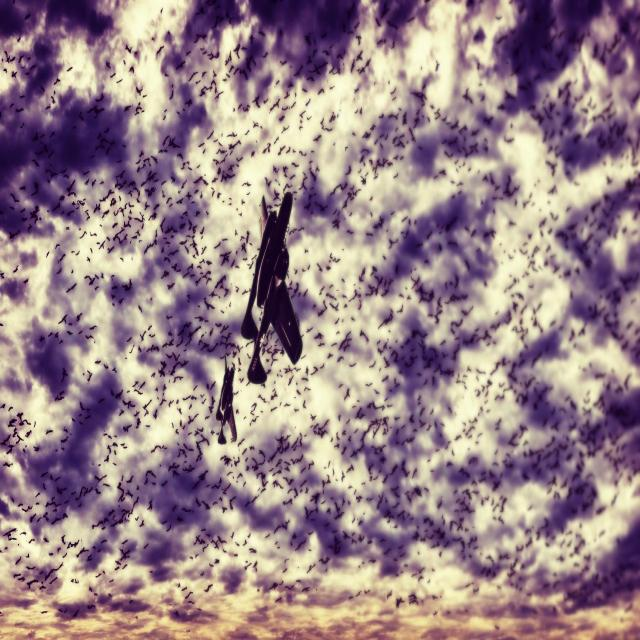airplane: (240, 190, 303, 384), (217, 356, 237, 444)
